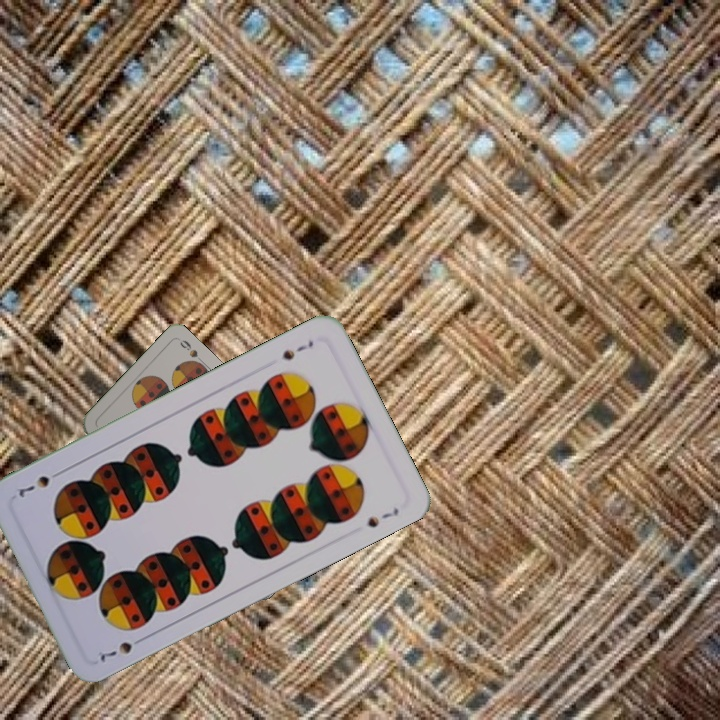S7: (93, 632, 149, 665), (278, 336, 316, 363)
